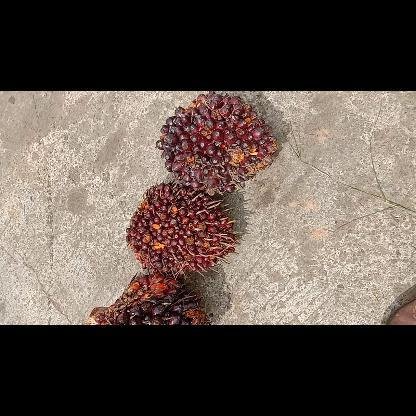Kurang masak: (155, 91, 278, 195), (126, 183, 238, 275)
TBS masak: (86, 276, 210, 324)
